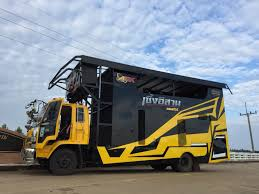truck: (22, 54, 231, 175)
